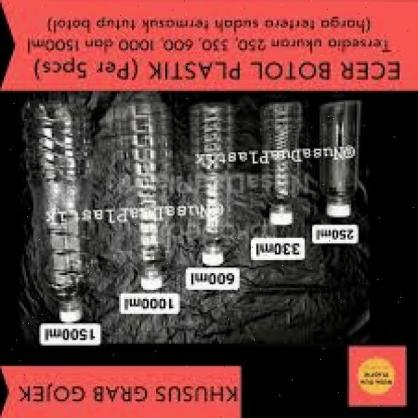bottle: (249, 96, 298, 234)
cap: (323, 200, 352, 221), (266, 209, 296, 227), (56, 305, 86, 322), (199, 252, 227, 269), (140, 275, 164, 290)
